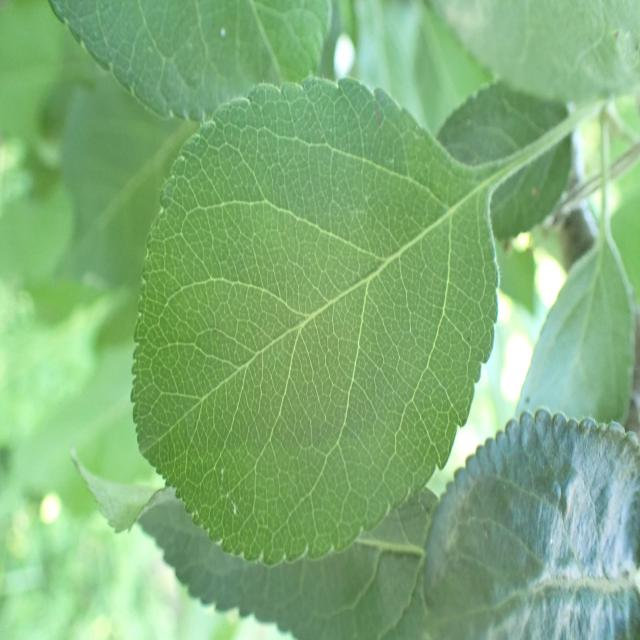healthy: (119, 77, 498, 566), (71, 444, 440, 640), (422, 408, 640, 640), (48, 0, 334, 123), (516, 235, 636, 428), (435, 80, 574, 242), (435, 0, 640, 107)
